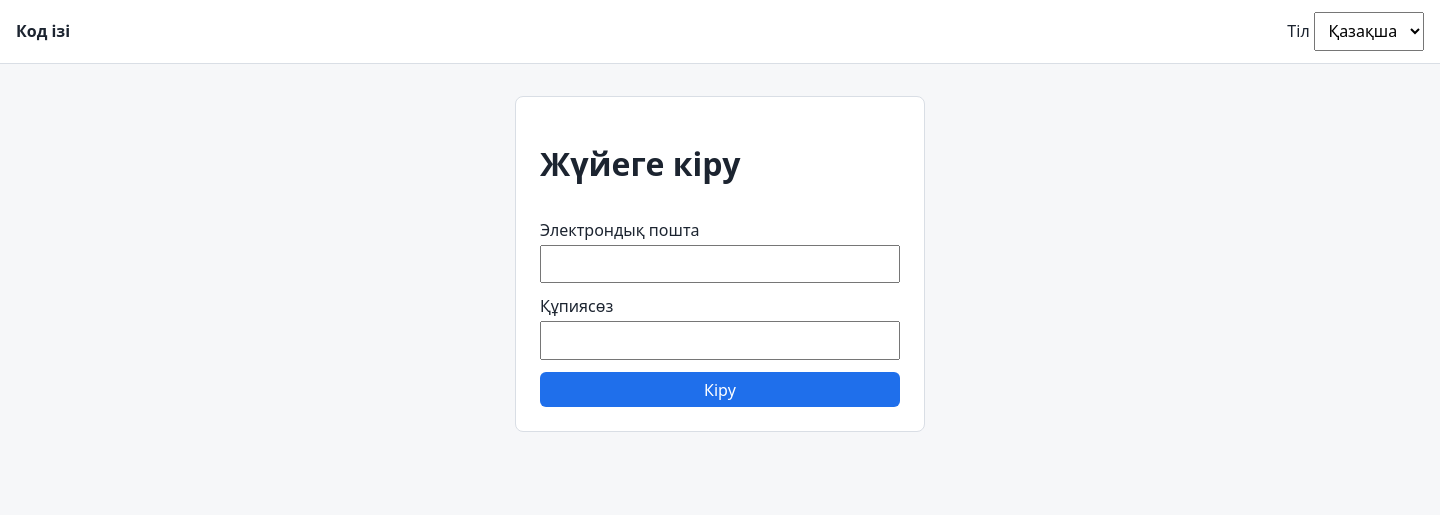
Scenario: sec14 login page › sec14: wrong password shows an error
The width and height of the screenshot is (1440, 515).
Type "student@example.com" into the field labelled "Электрондық пошта" at (720,264), box left=540, top=245, right=900, bottom=284
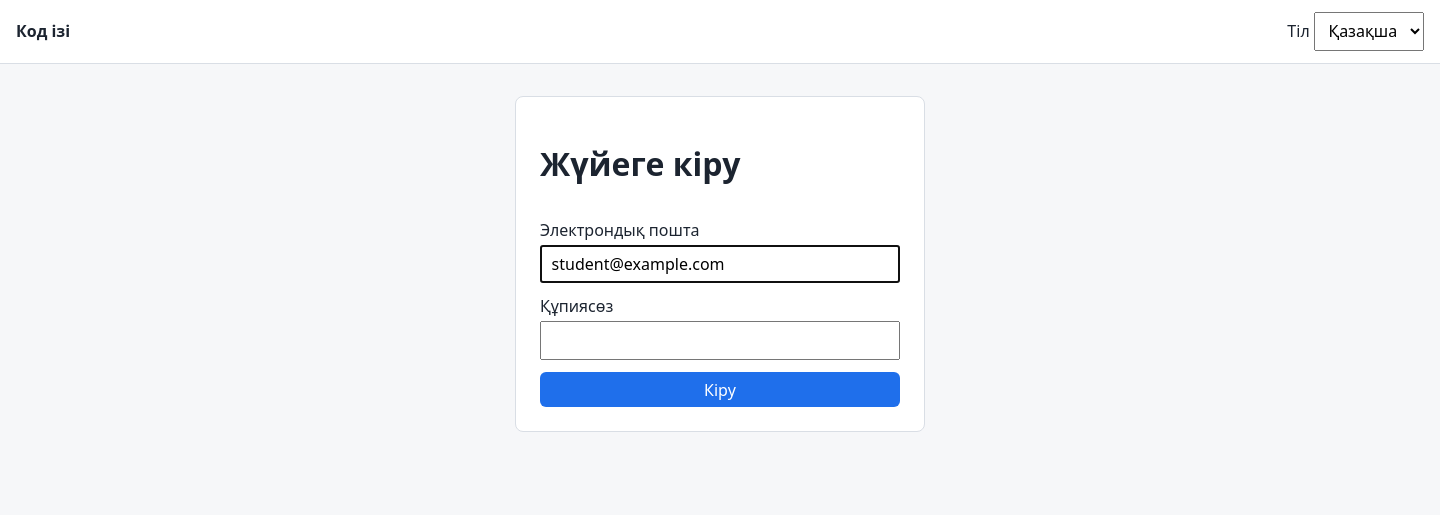
Type "wrong" into the password field labelled "Құпиясөз" at (720,341), box left=540, top=321, right=900, bottom=360
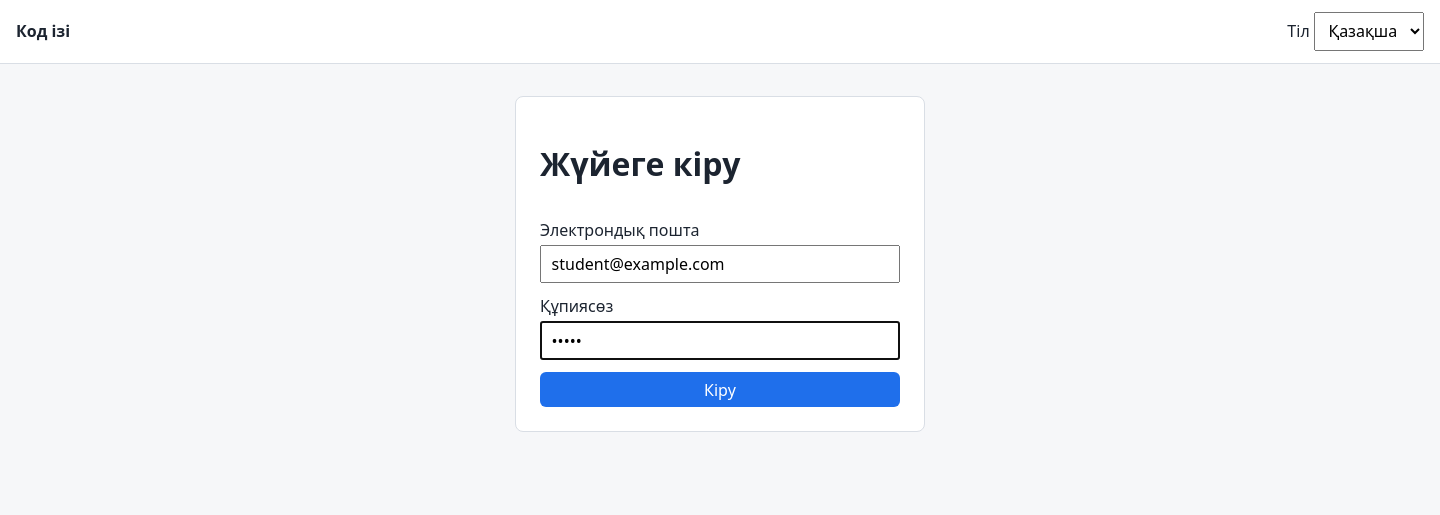
Click the button "Кіру" at (720,390), box left=540, top=372, right=900, bottom=407
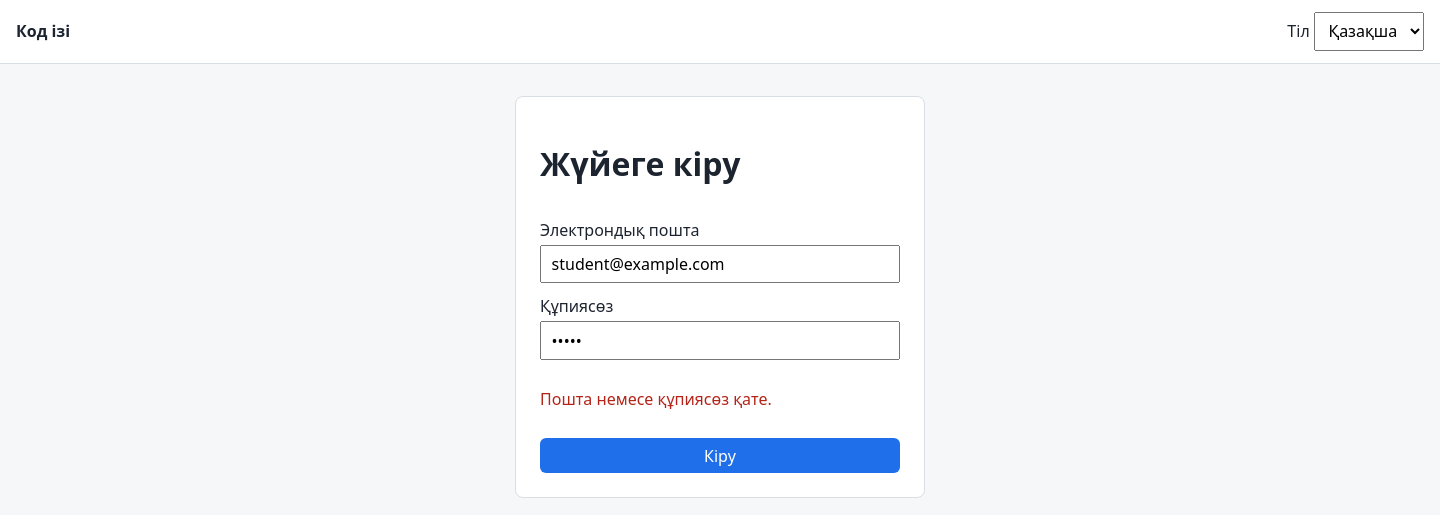
Now the message reads "Пошта немесе құпиясөз қате.", box left=540, top=388, right=772, bottom=410
